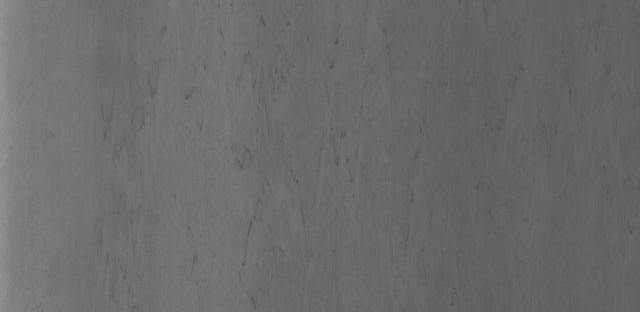silk_spot: (173, 25, 474, 275)
